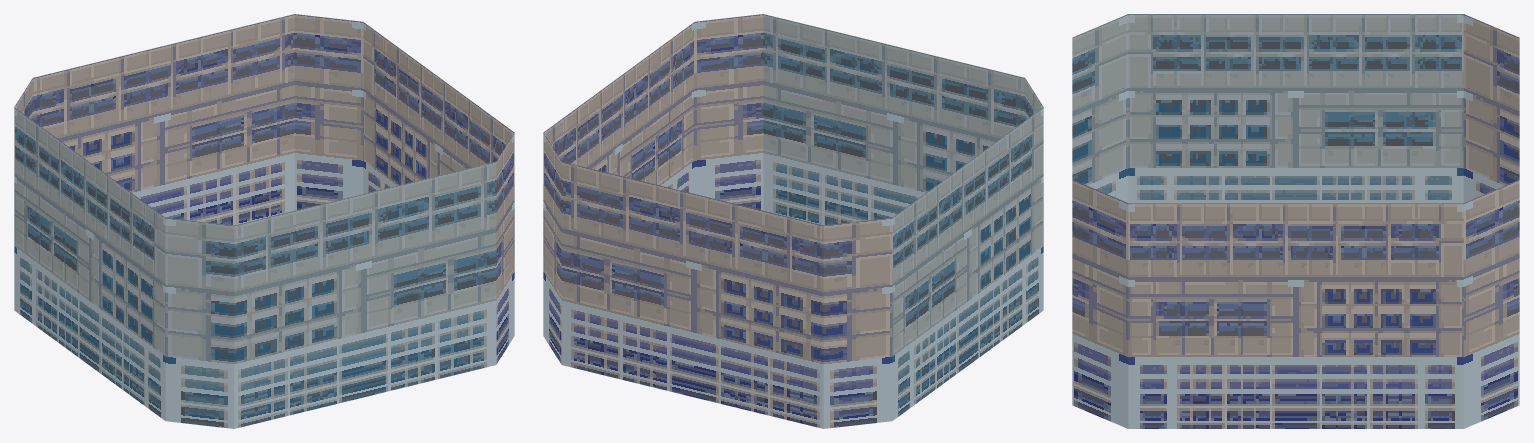
The picture shows the model from 3 angles, left to right: view 1: azimuth 30°, elevation 25°; view 2: azimuth 150°, elevation 25°; view 3: azimuth 270°, elevation 25°; orthographic projection. The views are drawn at different scales.
Visible parts, largest first — view 1: obj-116; view 2: obj-116; view 3: obj-116.
Part boxes in pixels (left/top/right/bottom): obj-116: left=14, top=14, right=514, bottom=428; obj-116: left=543, top=14, right=1043, bottom=428; obj-116: left=1072, top=14, right=1519, bottom=428.
Bounding box in the file's own units: 3.45 × 1.92 × 3.45.
Materials: 1 (1 with a texture image).
